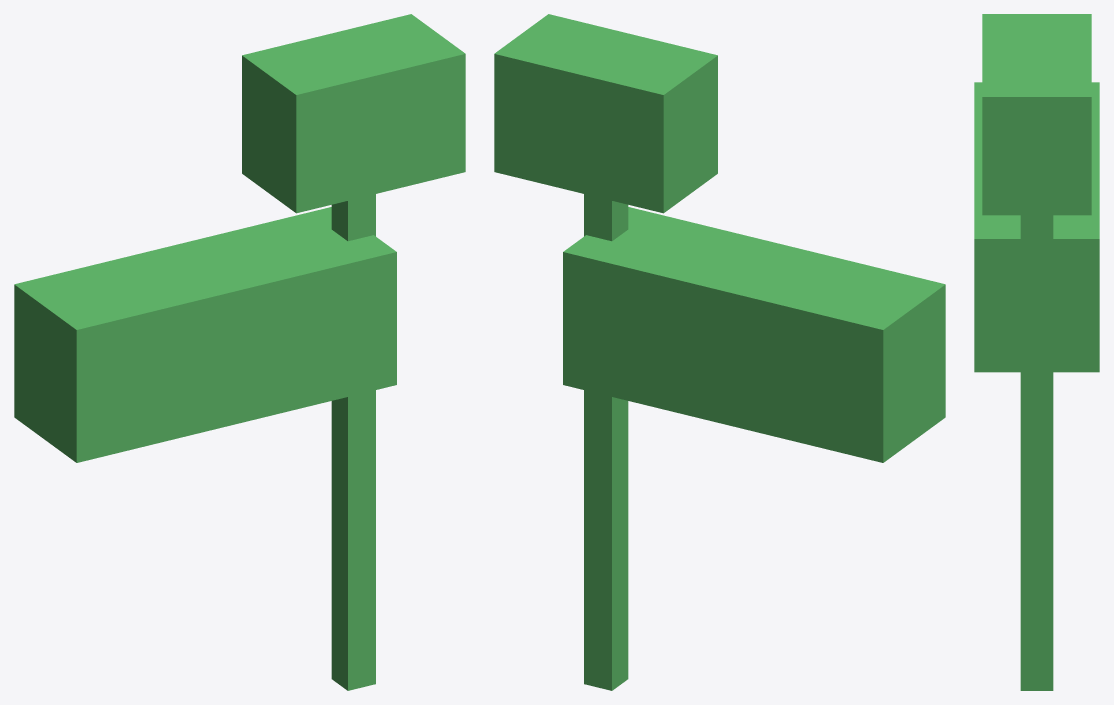
The model's file is brute_colossus_role_kit_collision.glb.
3 views of the same model, side by side, from view 1: azimuth 30°, elevation 25°; view 2: azimuth 150°, elevation 25°; view 3: azimuth 270°, elevation 25° (orthographic).
Visible parts, largest first — view 1: brute_colossus_role_kit-col-shoulders, brute_colossus_role_kit-col-maul-head, brute_colossus_role_kit-col-maul-haft; view 2: brute_colossus_role_kit-col-shoulders, brute_colossus_role_kit-col-maul-head, brute_colossus_role_kit-col-maul-haft; view 3: brute_colossus_role_kit-col-maul-head, brute_colossus_role_kit-col-shoulders, brute_colossus_role_kit-col-maul-haft.
Part boxes in pixels (<box>): brute_colossus_role_kit-col-shoulders: <box>14,207,396,462</box>; brute_colossus_role_kit-col-maul-head: <box>242,14,465,213</box>; brute_colossus_role_kit-col-maul-haft: <box>331,194,375,690</box>; brute_colossus_role_kit-col-shoulders: <box>563,207,945,462</box>; brute_colossus_role_kit-col-maul-head: <box>494,14,717,213</box>; brute_colossus_role_kit-col-maul-haft: <box>584,194,628,690</box>; brute_colossus_role_kit-col-maul-head: <box>982,14,1091,215</box>; brute_colossus_role_kit-col-shoulders: <box>974,82,1099,372</box>; brute_colossus_role_kit-col-maul-haft: <box>1020,215,1053,690</box>.
Size of the model in its own units: 1.67 by 2.54 by 0.46.
